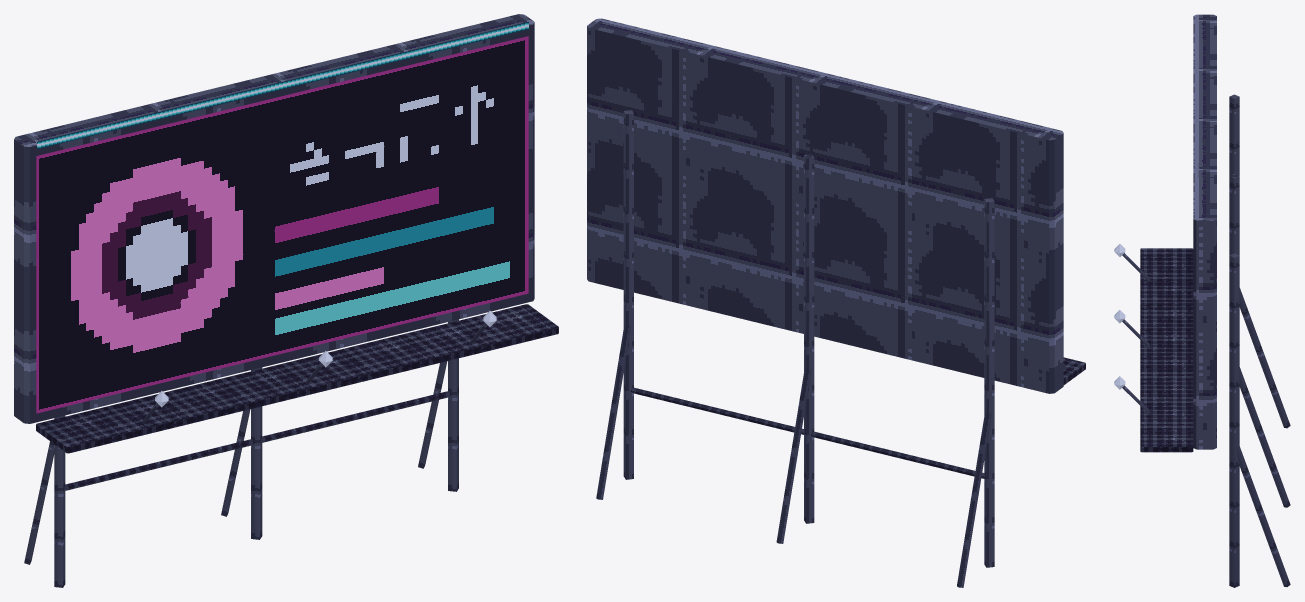
File: cysign.billboard.glb
The picture shows the model from 3 angles, left to right: view 1: azimuth 30°, elevation 25°; view 2: azimuth 150°, elevation 25°; view 3: azimuth 270°, elevation 25°; orthographic projection. The views are drawn at different scales.
Parts seen in each view (by area): view 1: kit_card_face, kit_panel, kit_truss; view 2: kit_panel, kit_truss; view 3: kit_panel, kit_truss.
Boxes of the visible parts, bbox=[...] form: kit_card_face: bbox=[36, 21, 528, 413]; kit_panel: bbox=[14, 14, 558, 453]; kit_truss: bbox=[24, 311, 496, 587]; kit_panel: bbox=[587, 18, 1085, 393]; kit_truss: bbox=[596, 110, 994, 587]; kit_panel: bbox=[1140, 14, 1216, 452]; kit_truss: bbox=[1114, 94, 1290, 587].
Size of the model in its own units: 8.3 by 7.4 by 3.
Materials: 5 (5 with a texture image).
